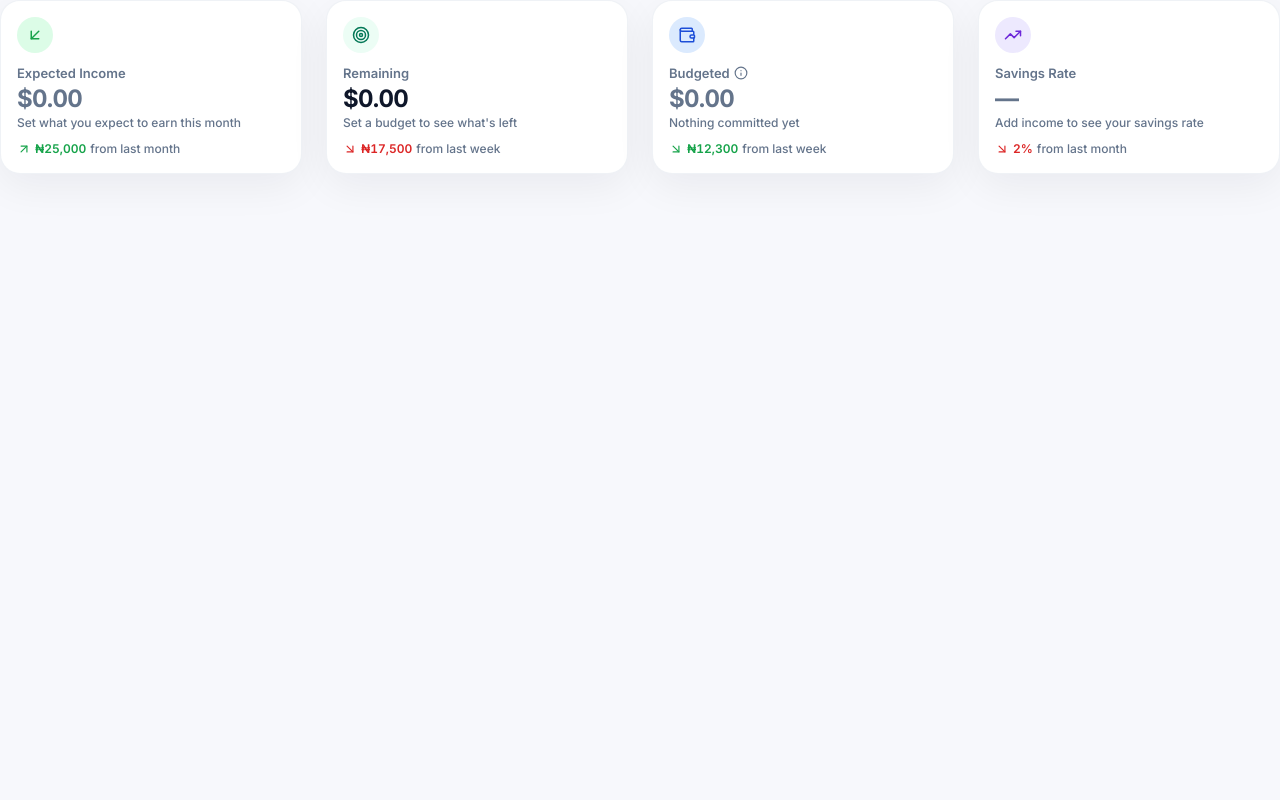
SummaryCards expected income › pre-fills the modal with the saved amount when reopened
The width and height of the screenshot is (1280, 800).
Step 1. Click the button with aria-label "Set expected income" → (35, 35), box [0, 0, 302, 174]
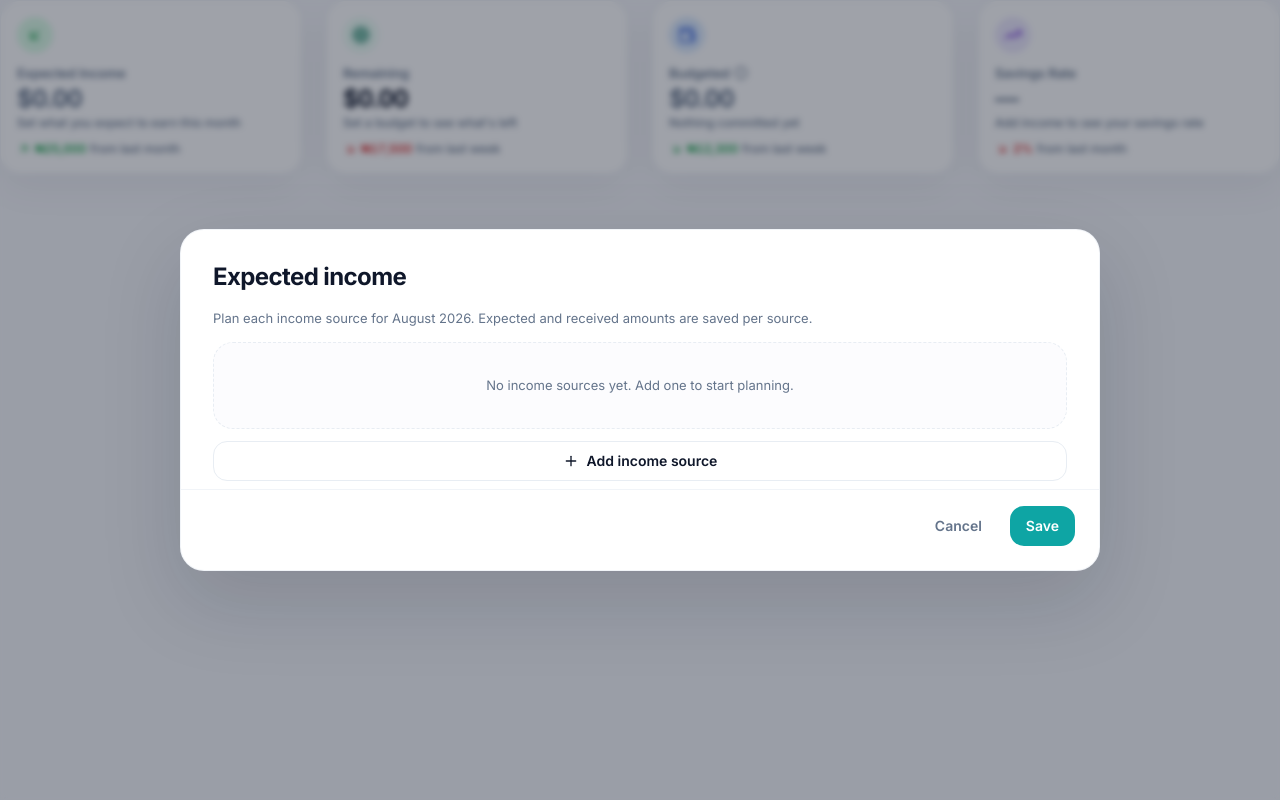
Step 2. Click the button "Add income source" → (640, 461), box [213, 441, 1067, 481]
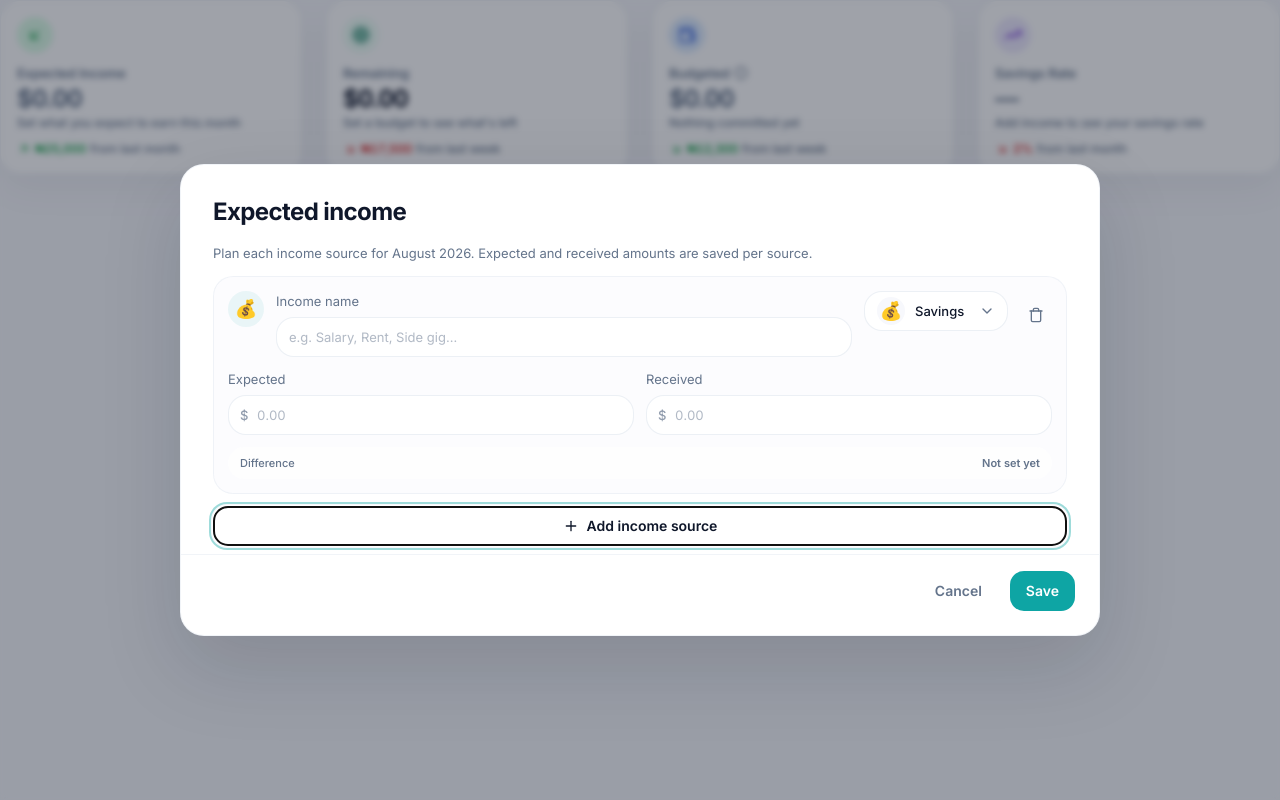
Step 3. Type "Salary" into the field labelled "Income name" → (564, 337), box [276, 317, 852, 357]
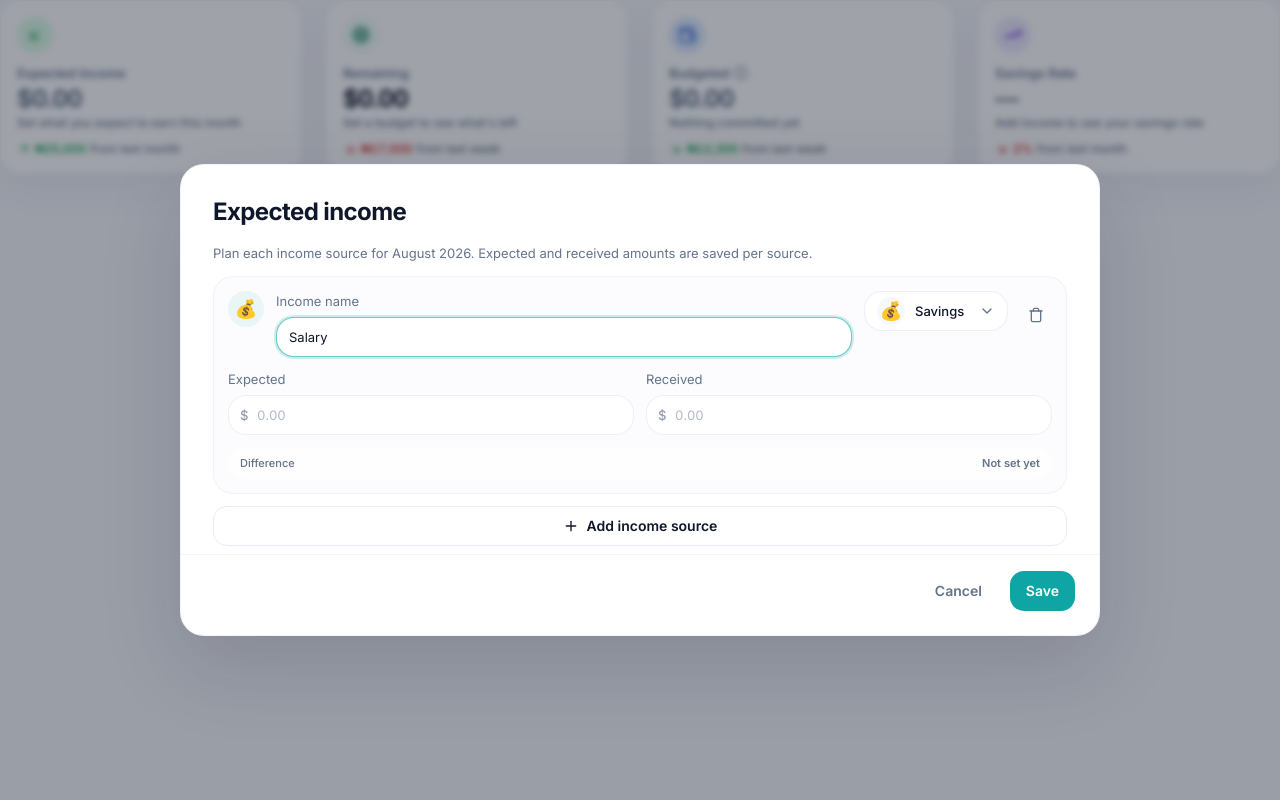
Step 4. Type "2500" into the field named "Expected amount for Salary" → (431, 415), box [228, 395, 634, 435]
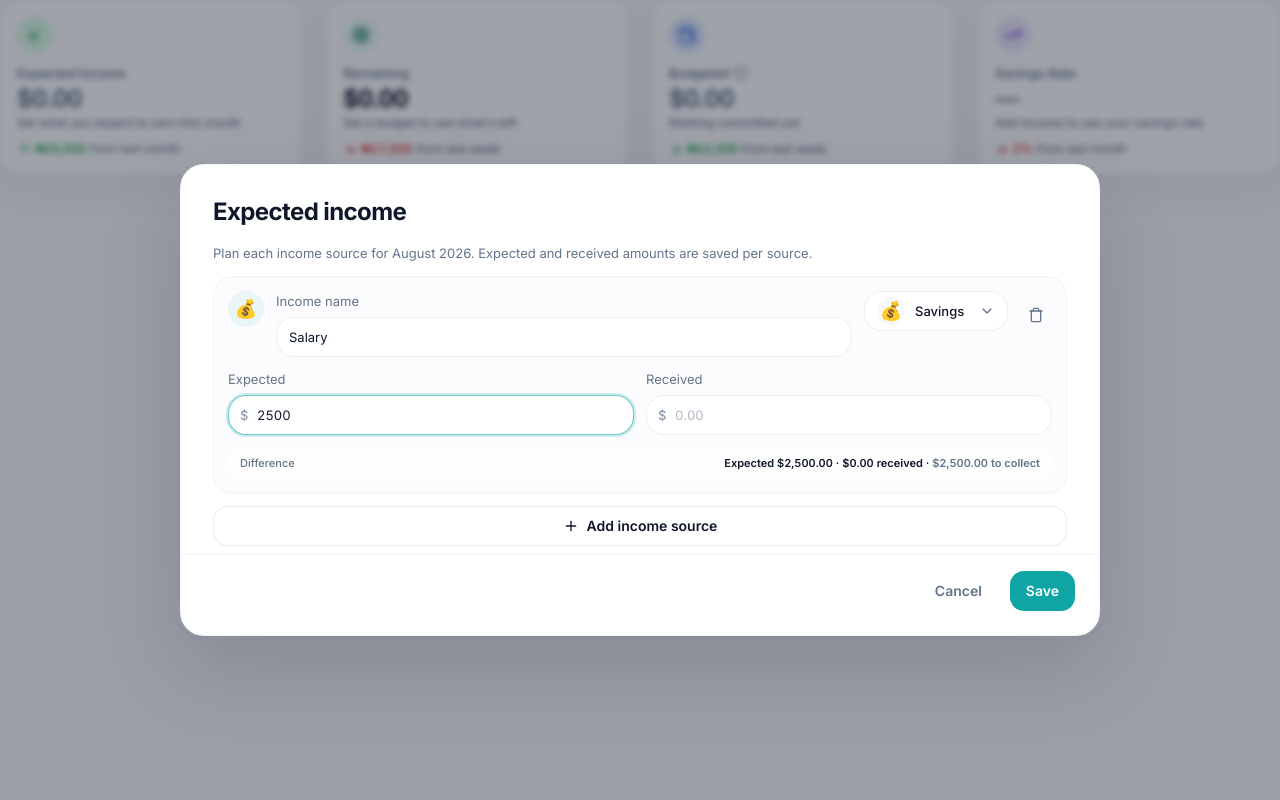
Step 5. Click the button "Save" → (1042, 591), box [1010, 571, 1075, 611]
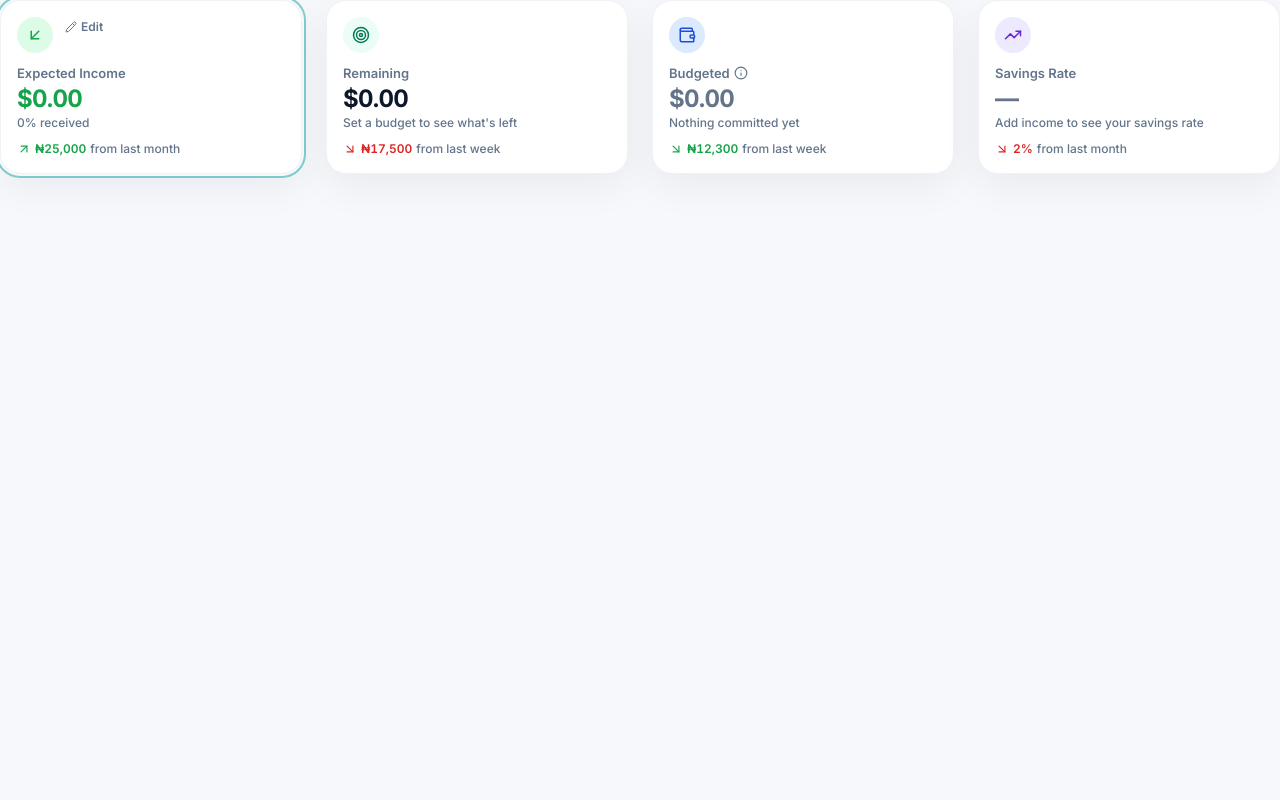
Step 6. Click the button "Expected Income" → (35, 35), box [0, 0, 302, 174]
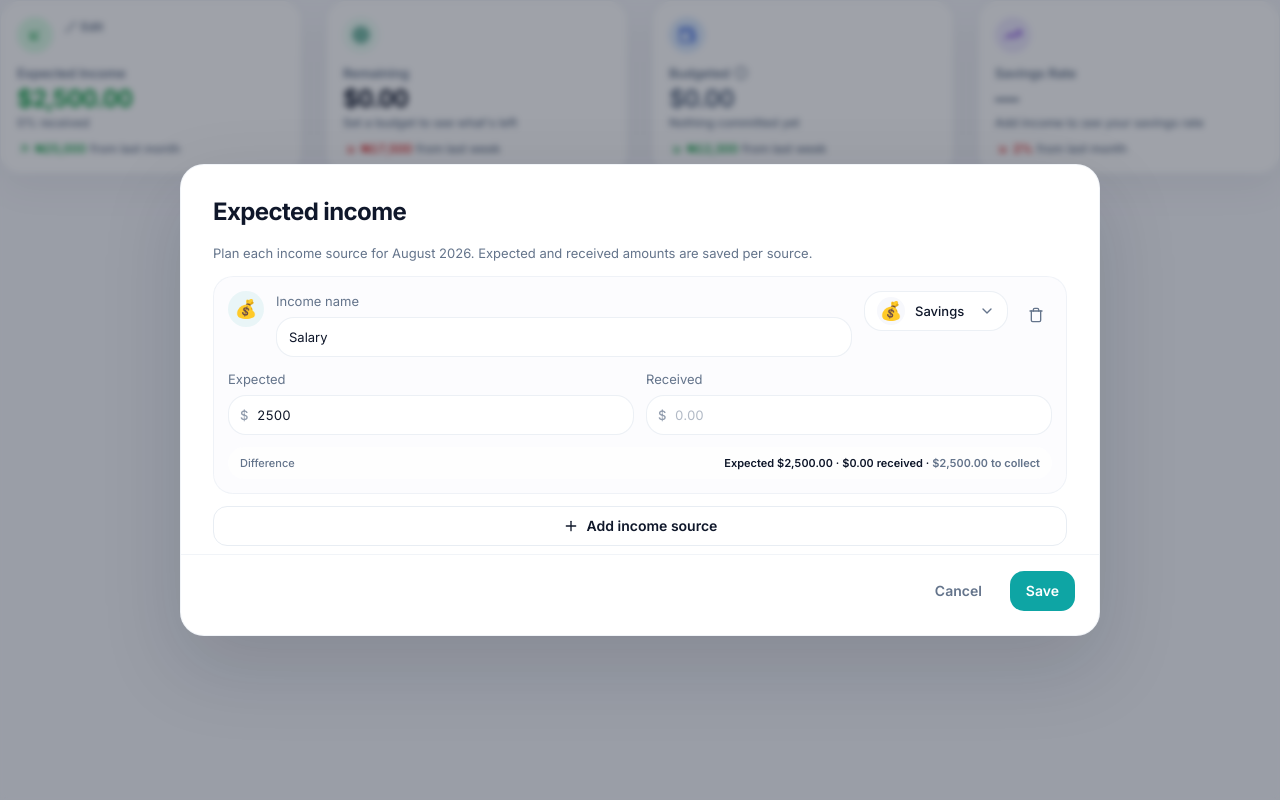
Now the field named "Expected amount for Salary" holds "2500", box [228, 395, 634, 435]
